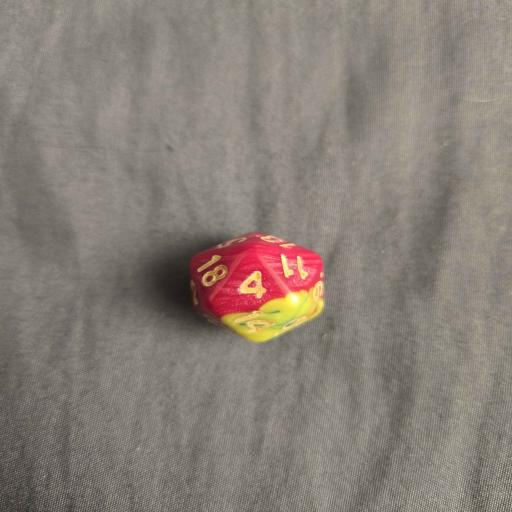twenty sided dice: (190, 232, 324, 342)
